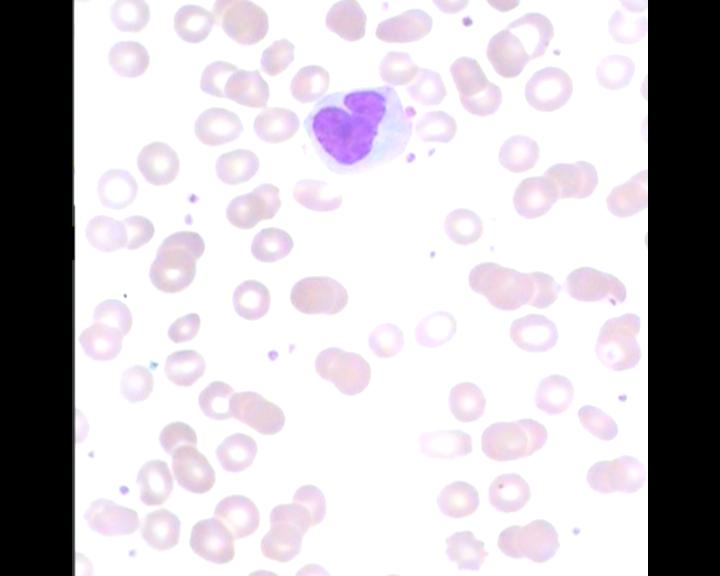mono: (305, 77, 409, 178)
